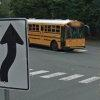buses: (27, 19, 90, 52)
